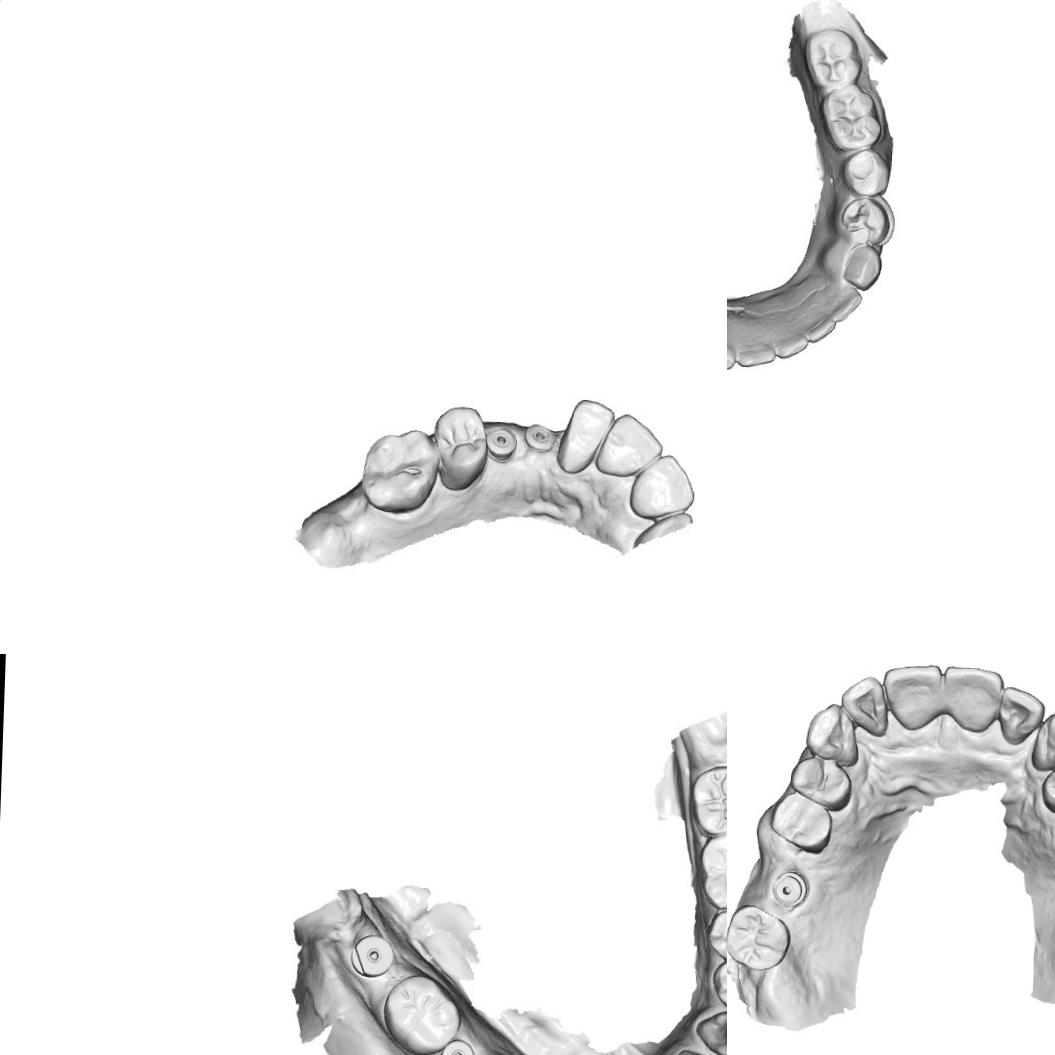canine: (804, 702, 860, 768), (834, 246, 892, 288), (1029, 711, 1055, 772), (696, 1008, 727, 1055)
implant: (351, 927, 397, 981), (770, 868, 808, 908), (483, 425, 517, 462), (439, 1036, 477, 1055)
implant_minus: (522, 422, 560, 458)
incisor: (552, 393, 616, 476), (880, 662, 944, 732), (942, 664, 1005, 734), (631, 455, 696, 518), (600, 415, 660, 477), (840, 674, 890, 738), (998, 685, 1046, 747), (764, 310, 817, 361), (795, 302, 838, 348), (734, 324, 775, 372), (827, 285, 864, 324)
inlay: (843, 202, 881, 244)
molar: (360, 428, 441, 512), (382, 975, 463, 1055), (727, 901, 791, 973), (820, 87, 884, 151), (803, 24, 861, 93), (688, 765, 727, 836), (701, 833, 727, 910)
premolar: (435, 402, 488, 488), (768, 790, 834, 855), (788, 754, 854, 812), (844, 147, 887, 191), (712, 954, 727, 1015), (1040, 758, 1055, 816), (711, 910, 727, 962)
